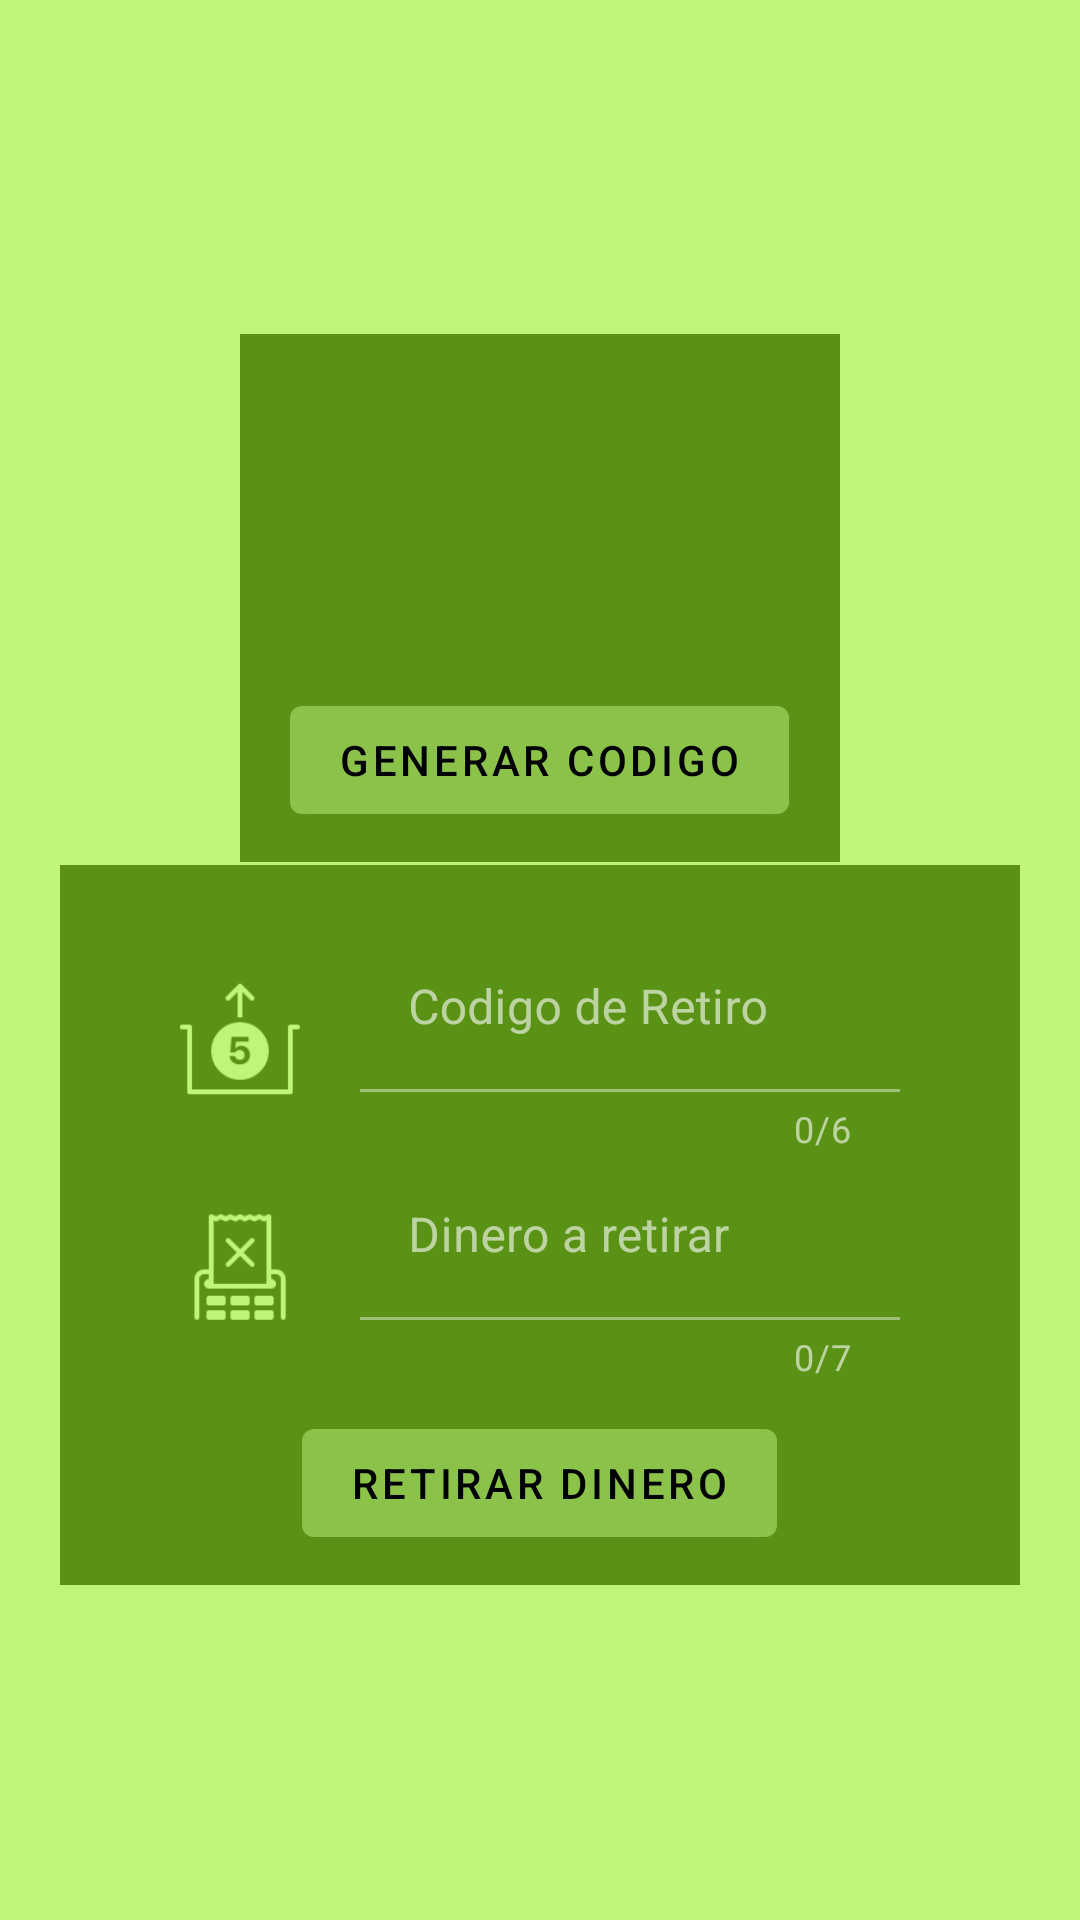

Named icons in this screenshot (1080px x 1920px) and their bounding boxes, (x1, y1, x2, y2):
code withdrawal: (180, 984, 300, 1095)
